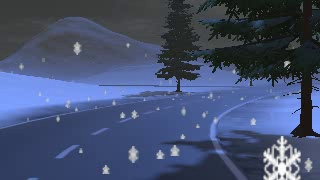Lane: (0, 87, 292, 179)
